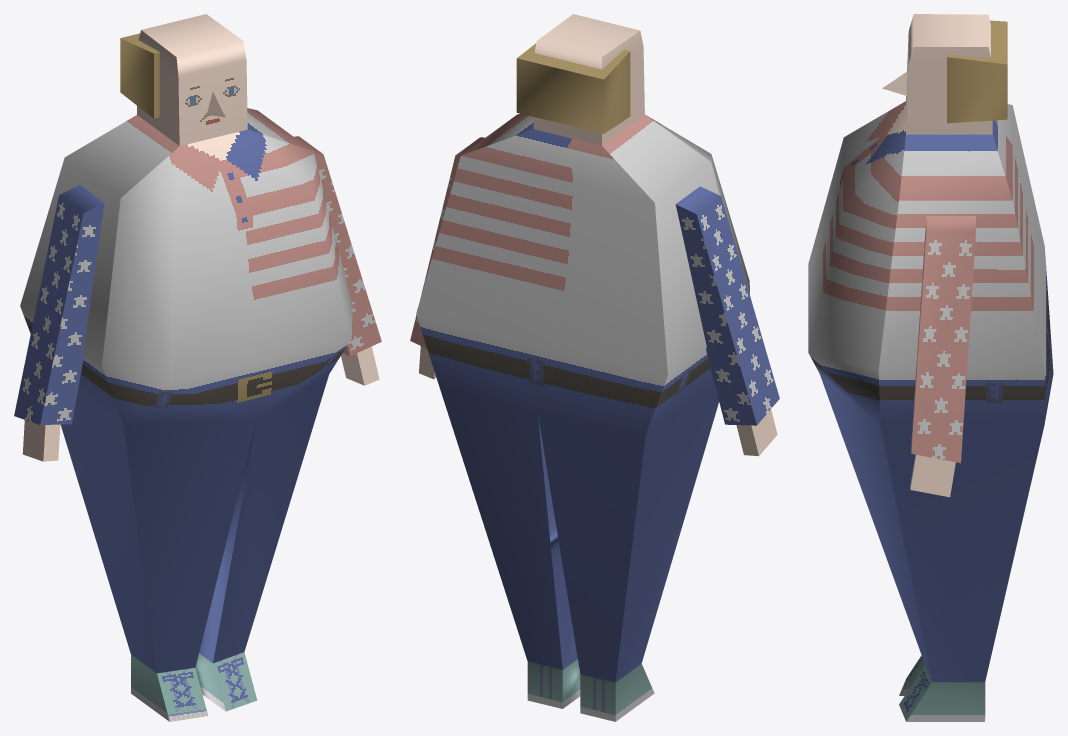
The model's file is 0229_American_Guy.glb.
The picture shows the model from 3 angles, left to right: view 1: azimuth 30°, elevation 25°; view 2: azimuth 150°, elevation 25°; view 3: azimuth 270°, elevation 25°; orthographic projection.
Parts seen in each view (by area): view 1: part_0; view 2: part_0; view 3: part_0.
Boxes of the visible parts, left/top/right/bottom form: part_0: left=14, top=14, right=381, bottom=721; part_0: left=410, top=14, right=779, bottom=721; part_0: left=808, top=14, right=1053, bottom=721.
Bounding box in the file's own units: 0.9661 × 1.76 × 0.585.
1 material, 1 textured.
